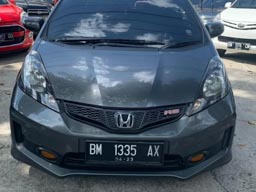plat: (86, 141, 164, 157)
